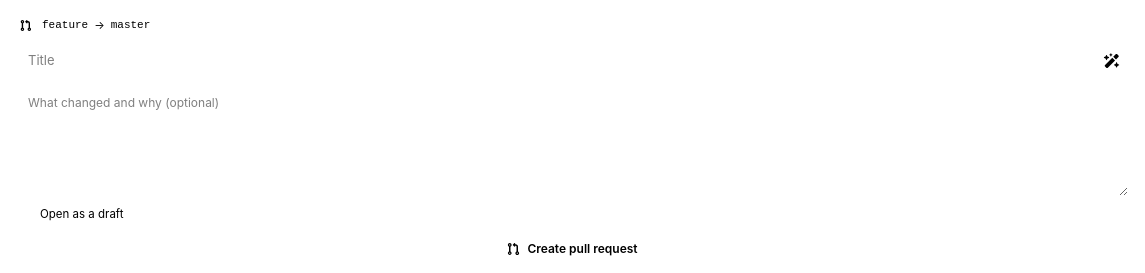
Test case: CreatePrForm › fills the title and description with AI
Click the button named "Write the title and description with AI".
click(1112, 61)  # box [1100,49,1124,73]
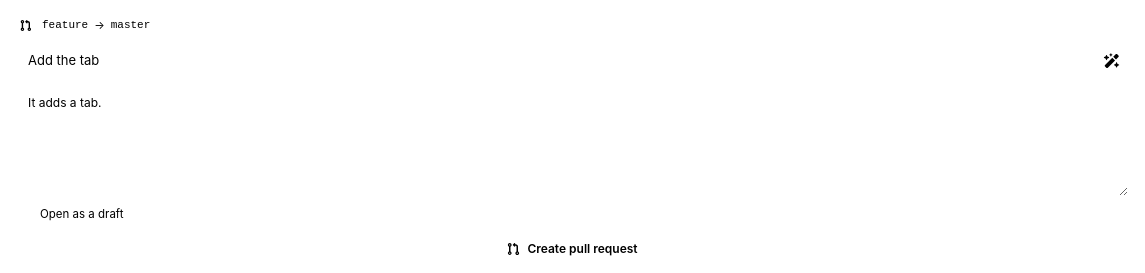
expect the text "master" is shown: met, box [111,17,150,33]
expect the field named "Pull request title" holds "Add the tab": met, box [16,45,1128,76]
expect the text box named "Pull request description" holds "It adds a tab.": met, box [16,86,1128,196]
